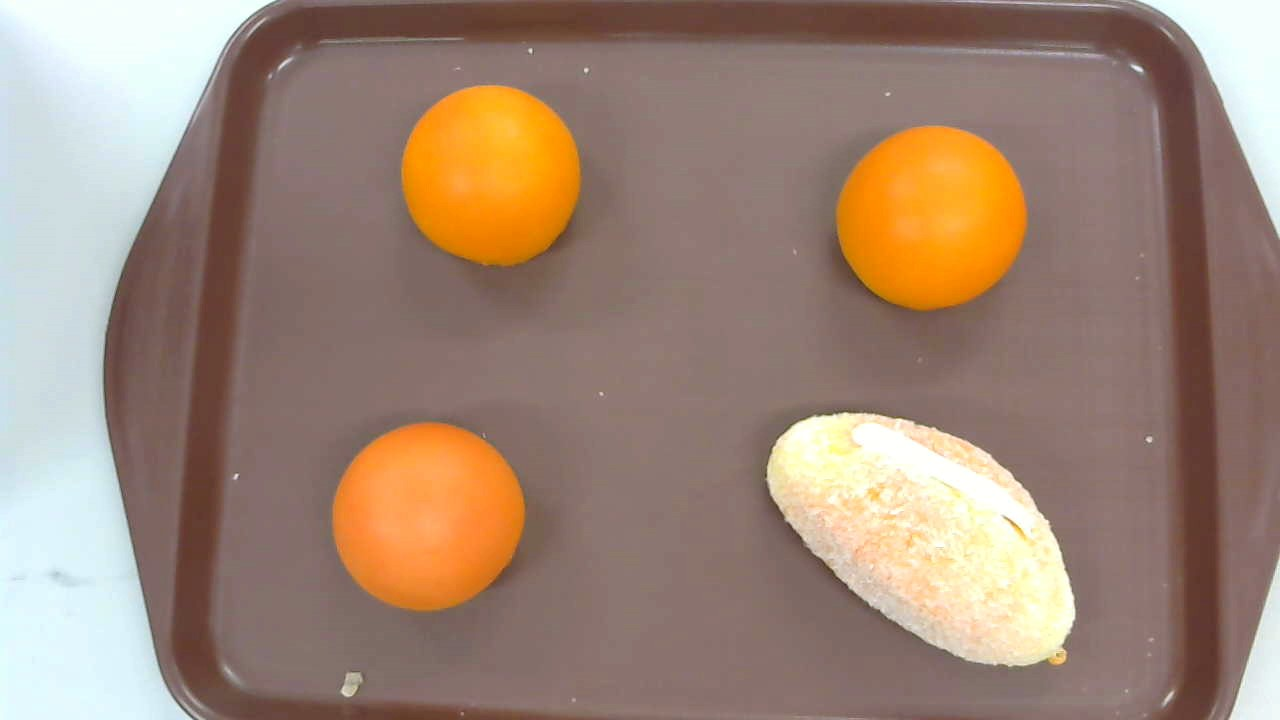bun: (332, 418, 525, 612), (835, 125, 1028, 310), (402, 82, 584, 268)
coconut: (766, 412, 1076, 666)
